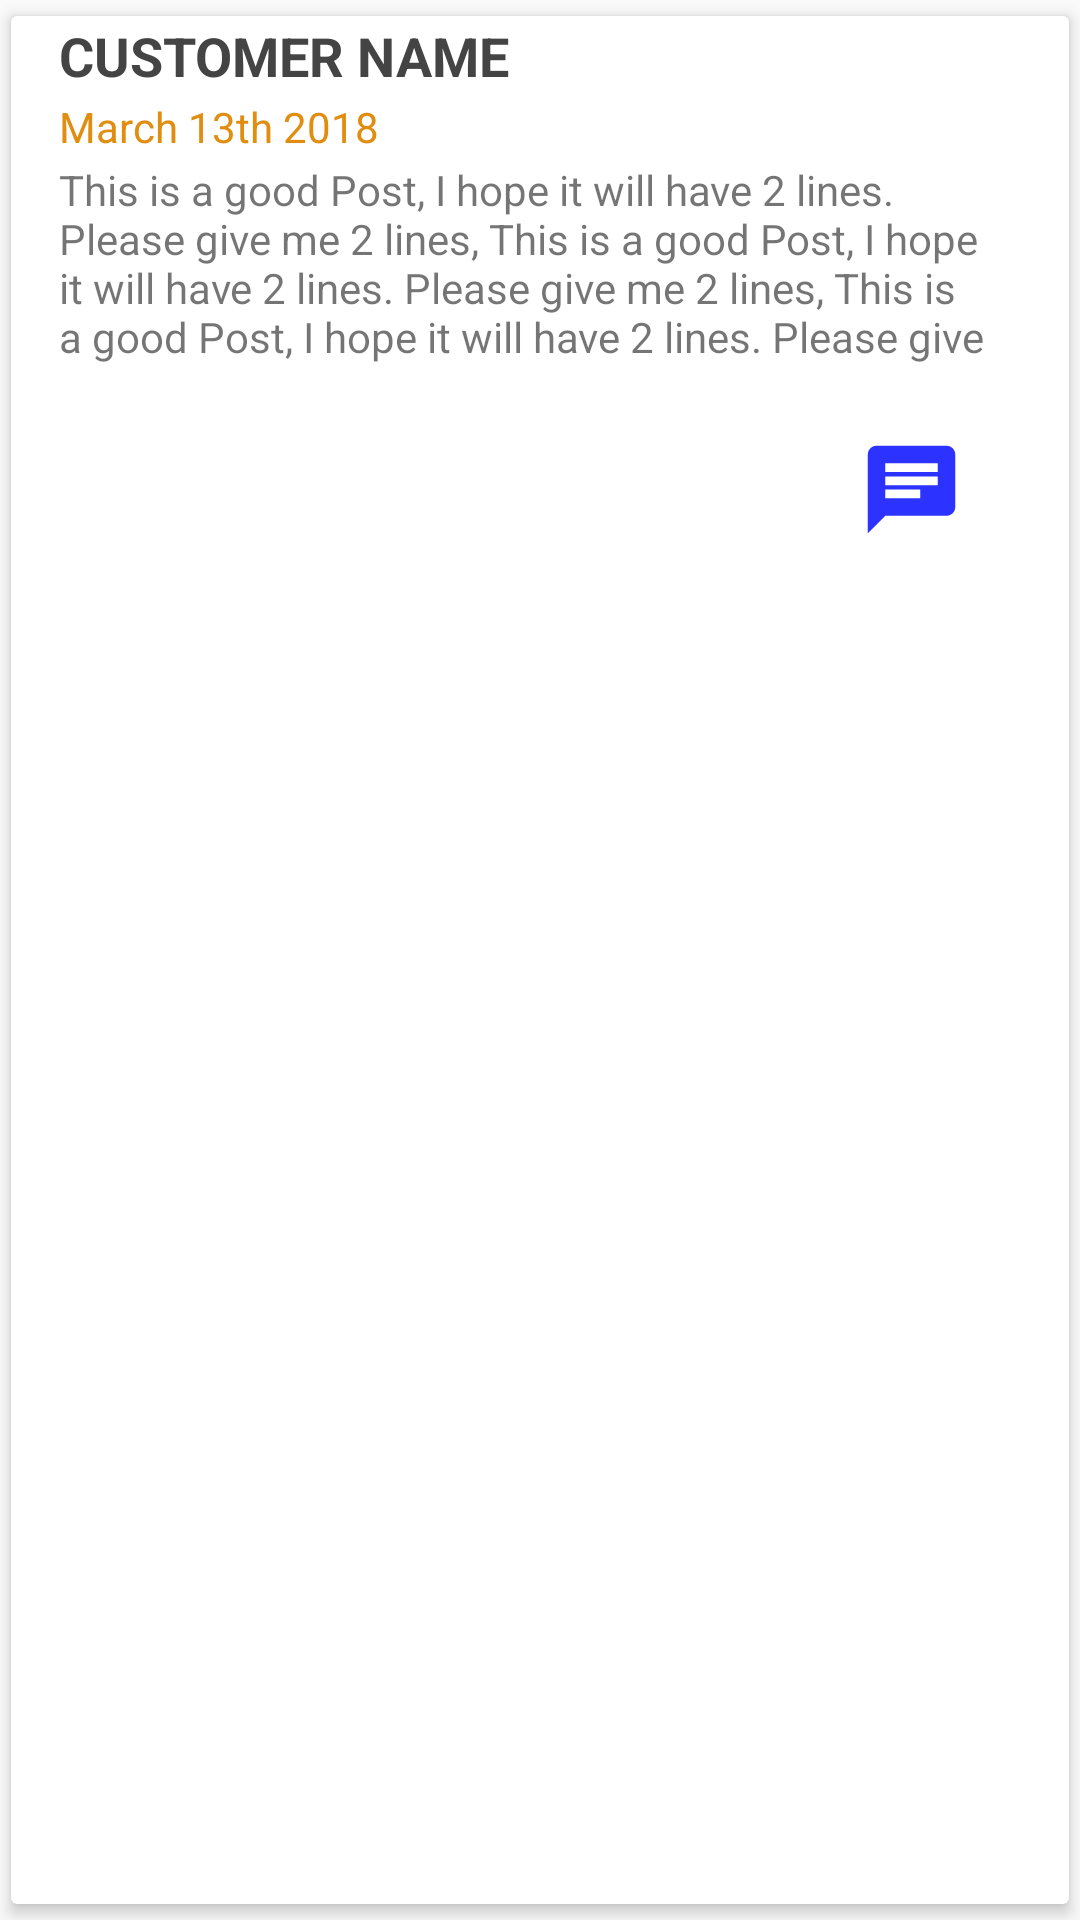

Point at icon controls on the screen. Image size 1080 × 1920, points as (x=x, y=y).
report chat: (x=911, y=489)
